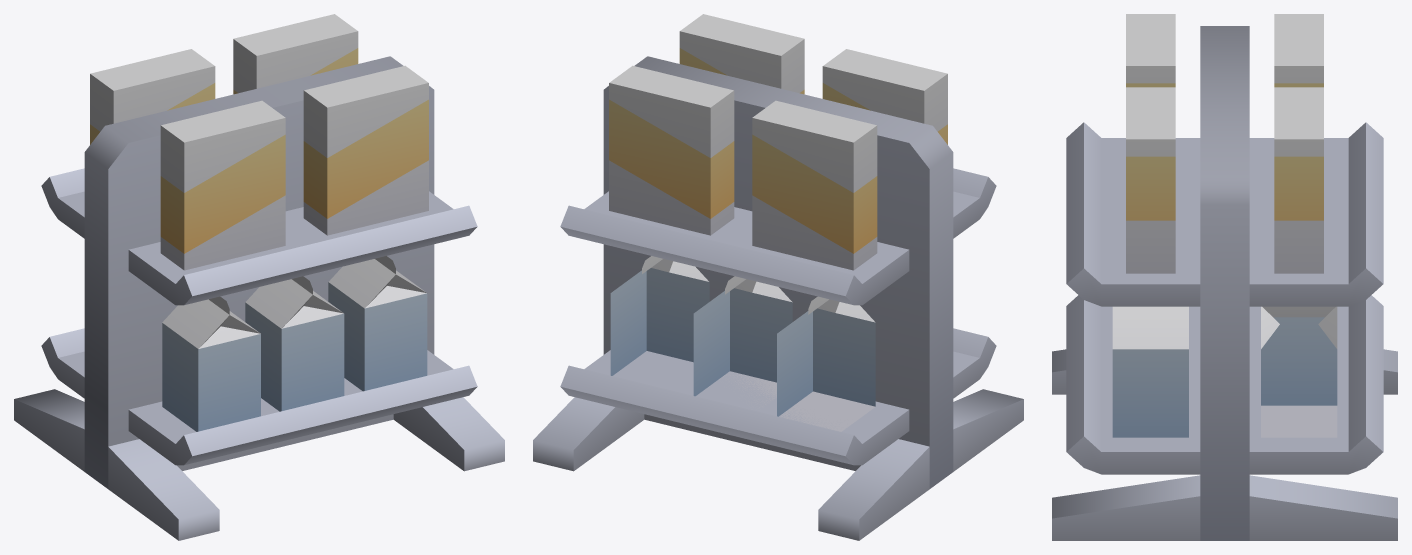
Rendered from shelf-boxes.glb.
The picture shows the model from 3 angles, left to right: view 1: azimuth 30°, elevation 25°; view 2: azimuth 150°, elevation 25°; view 3: azimuth 270°, elevation 25°; orthographic projection. The views are drawn at different scales.
Parts seen in each view (by area): view 1: shelf-boxes; view 2: shelf-boxes; view 3: shelf-boxes.
Part boxes in pixels (box(x1,y1,x2,y2)): shelf-boxes: box(14, 14, 504, 540); shelf-boxes: box(533, 14, 1023, 540); shelf-boxes: box(1052, 14, 1397, 540).
Size of the model in its own units: 0.8 by 0.85 by 0.7.
